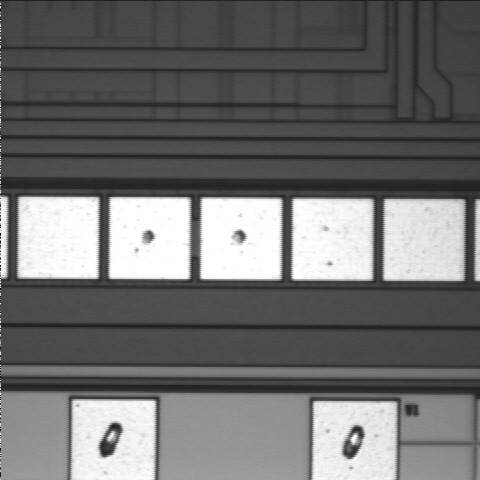pad: (18, 197, 99, 279), (109, 197, 190, 279), (201, 198, 282, 280), (292, 199, 373, 281), (384, 199, 464, 281)
